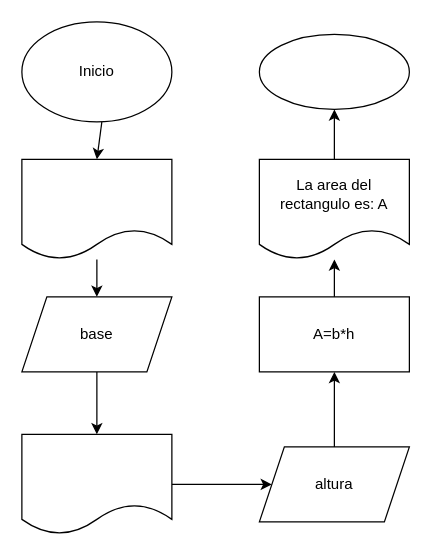
Some shapes in this 431 by 556 pixel diagram are drawn without their labels. The centre of each missing label's shape, as x and y in pixels:
"Fin" goes at [333,71].
"Ingresar la altura del rectangulo" goes at [96,483].
"Ingresar la base del rectangulo" goes at [96,208].
